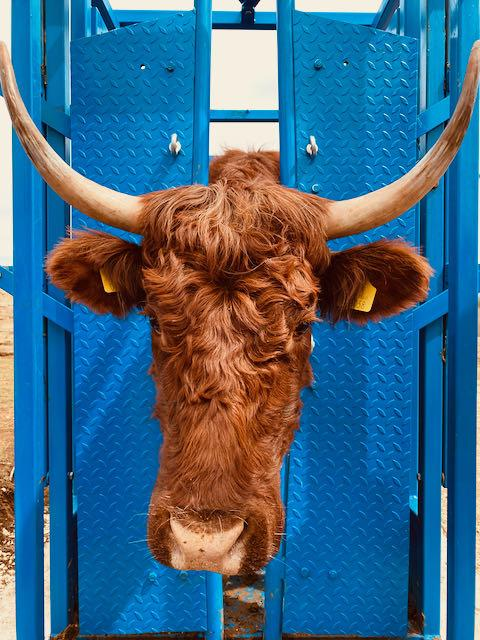muzzles: (141, 509, 281, 580)
